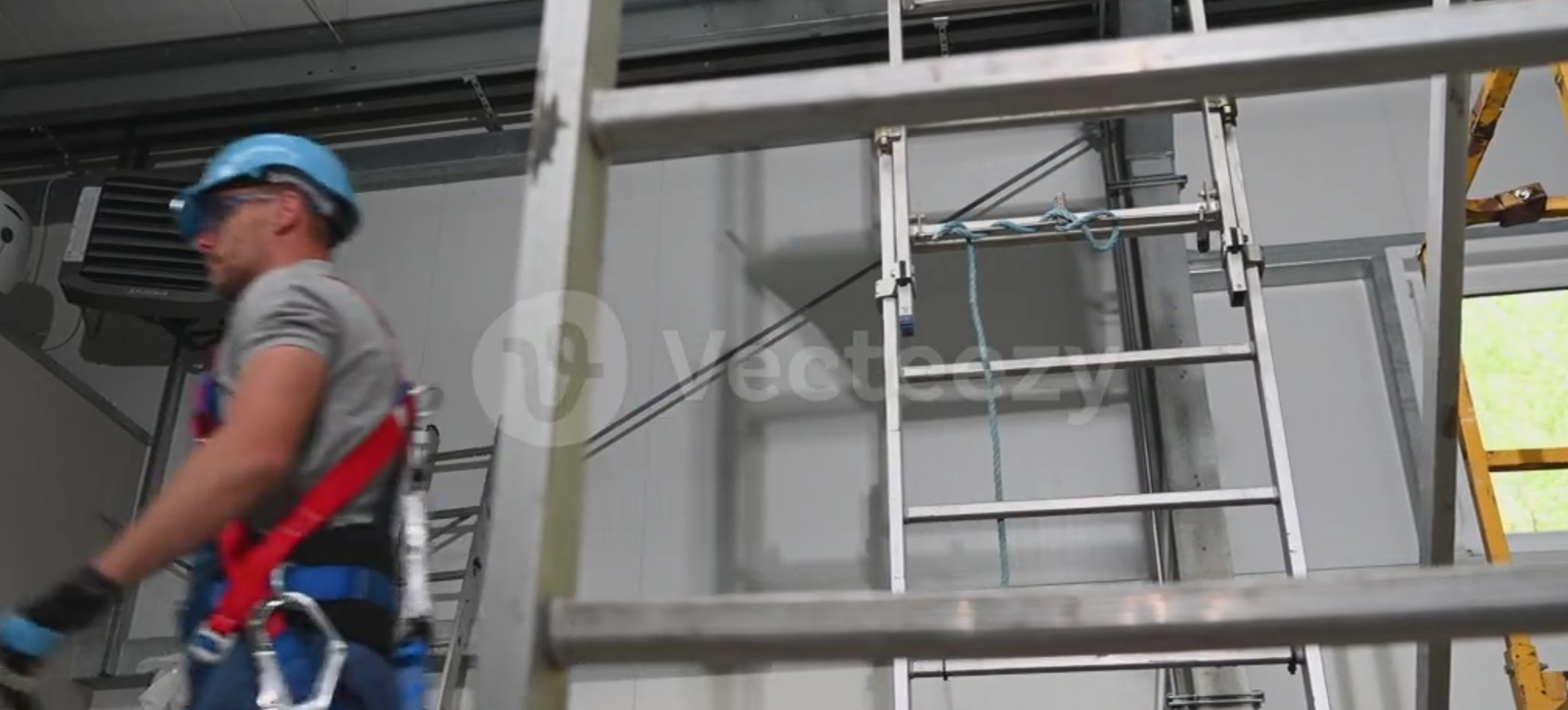safety_helmet: (167, 131, 362, 244), (0, 188, 33, 297)
